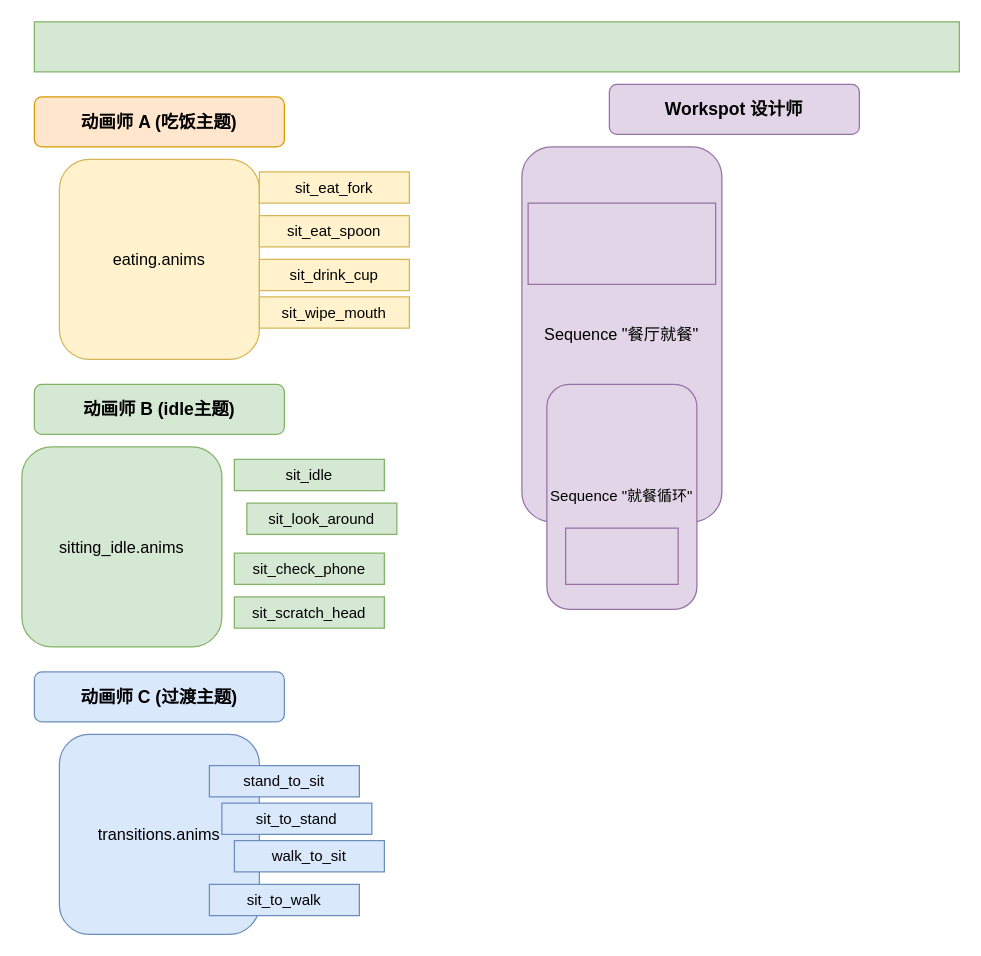
This 981x956 diagram has some shape labels left out. The centre of each missing label's shape, as x and y in pixels:
AnimClip { m_animName: "sit_eat_fork" }: (x=621, y=555)
EntryAnim { m_animName: "walk_to_sit" }: (x=621, y=243)
美术工作流程：动画资源管理与Workspot设计: (x=496, y=46)
